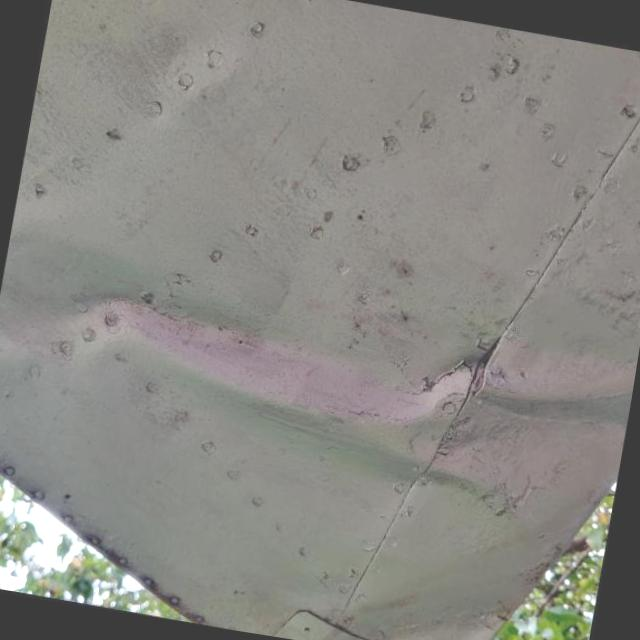dent: (0, 244, 638, 535)
